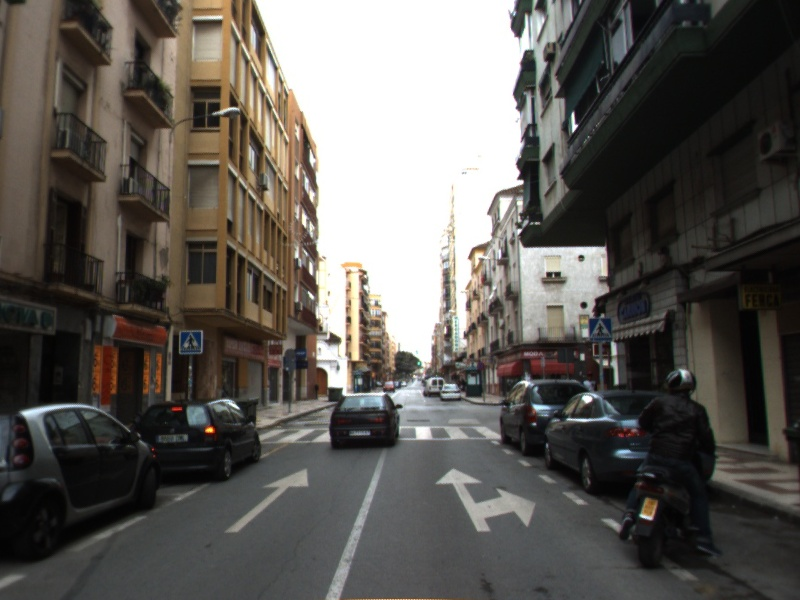STRAIGHT: (222, 467, 310, 534)
STRAIGHT_RIGHT: (434, 467, 538, 533)
